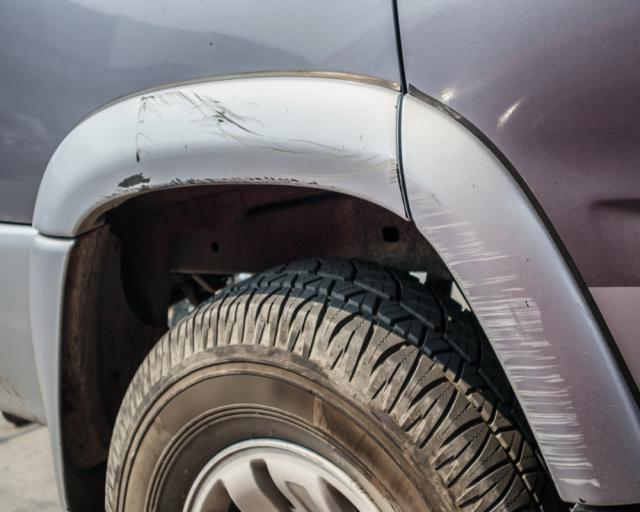scratch: (410, 182, 603, 489), (109, 89, 411, 224)
